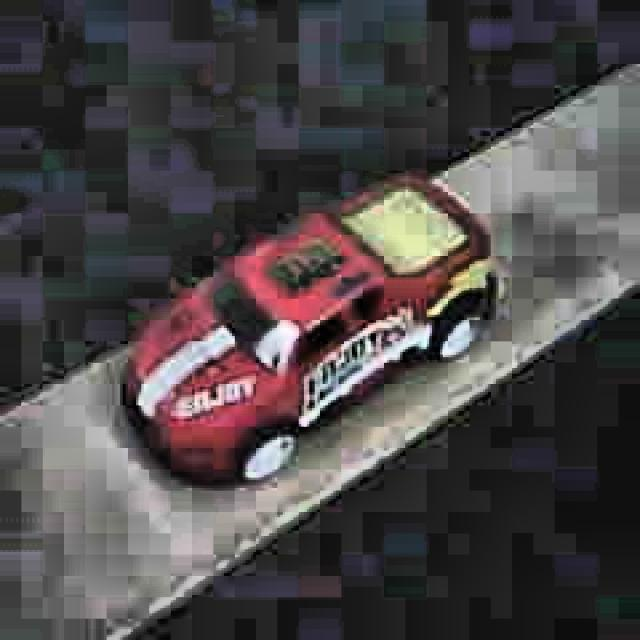car: (120, 170, 498, 490)
